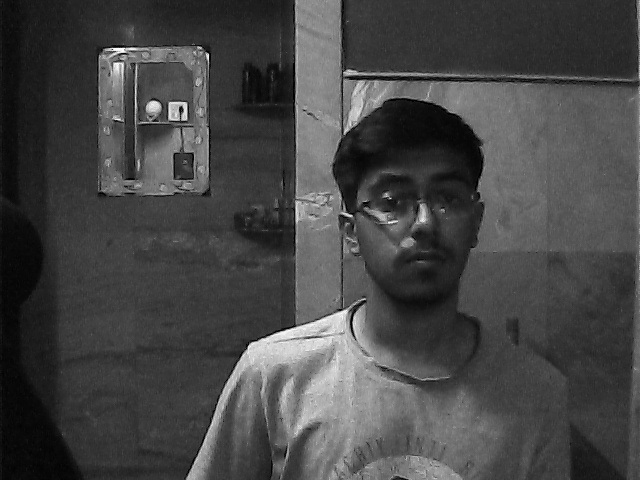nomask: (349, 136, 483, 310)
